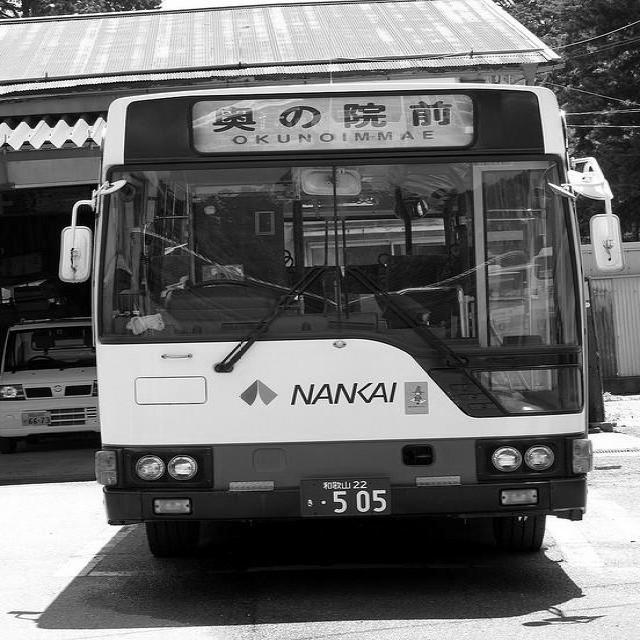vehicle: (105, 95, 586, 563), (3, 317, 99, 453)
